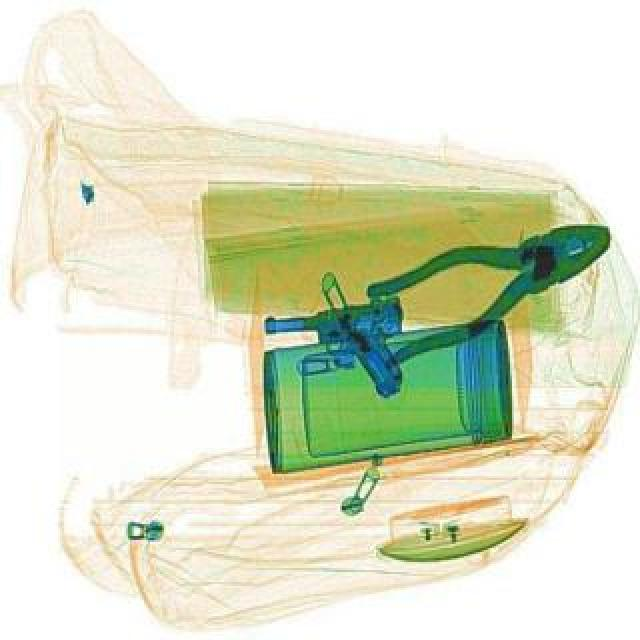gun: (264, 288, 412, 408)
wrench: (362, 190, 632, 364)
